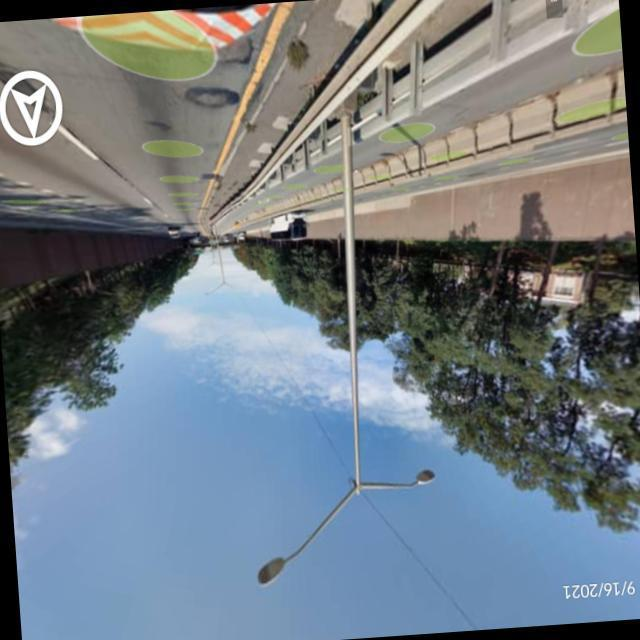off: (245, 446, 506, 586)
